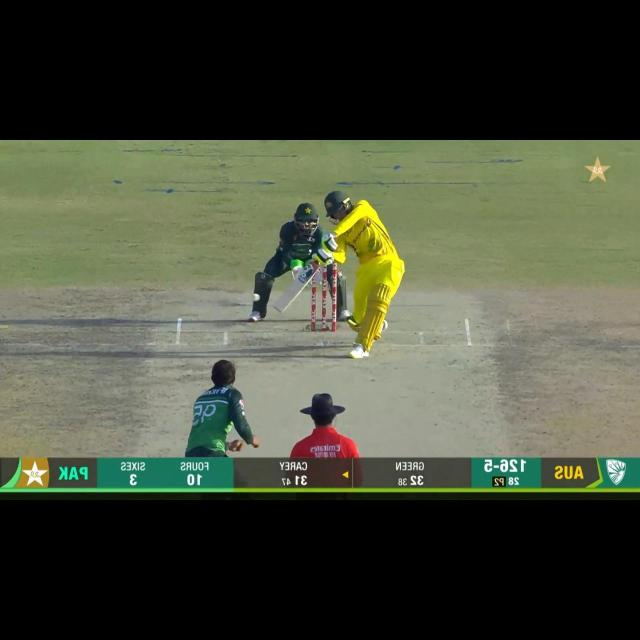bat: (271, 260, 320, 318)
toe: (272, 302, 285, 314)
